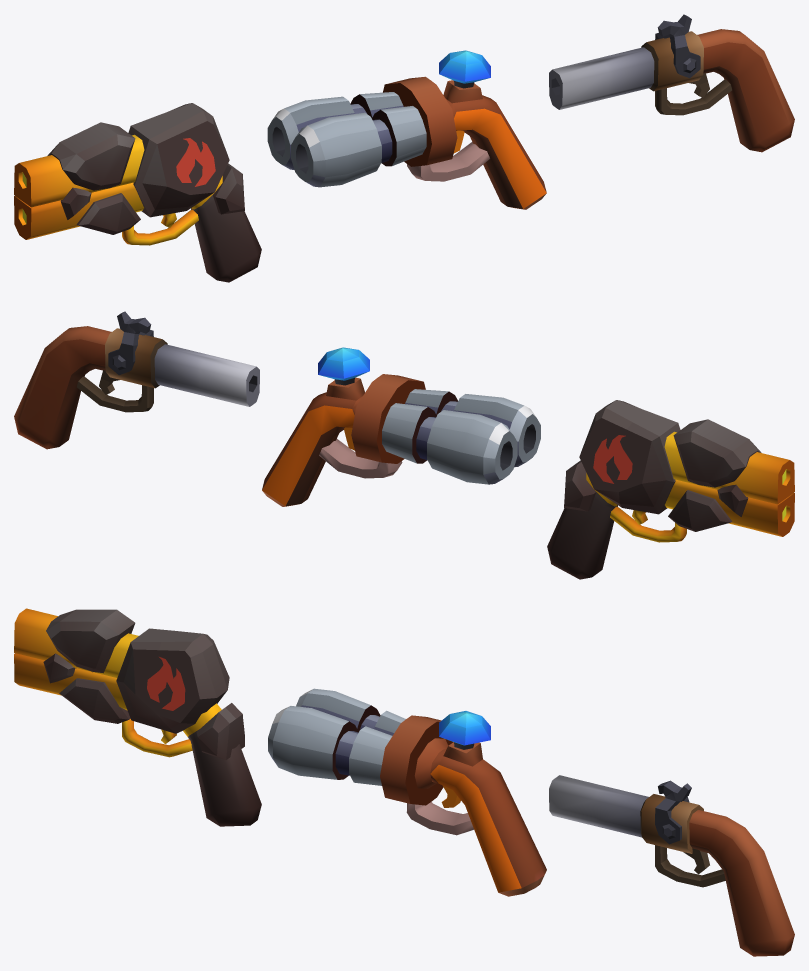
The model's file is Gun.fbx.
3 views of the same model, one above another, from view 1: azimuth 30°, elevation 25°; view 2: azimuth 150°, elevation 25°; view 3: azimuth 330°, elevation 25° (orthographic).
Visible parts, largest first — view 1: Gun_03, Gun_02, Gun_01; view 2: Gun_03, Gun_02, Gun_01; view 3: Gun_03, Gun_02, Gun_01.
Boxes of the visible parts, x1,y1,x2,y2 form: Gun_03: [14, 103, 261, 282]; Gun_02: [267, 50, 546, 209]; Gun_01: [549, 14, 794, 152]; Gun_03: [547, 400, 794, 579]; Gun_02: [262, 347, 540, 506]; Gun_01: [14, 311, 259, 449]; Gun_03: [14, 608, 261, 826]; Gun_02: [268, 688, 546, 896]; Gun_01: [549, 775, 794, 956].
Bounding box in the file's own units: 5.19 × 1.16 × 0.6502.
